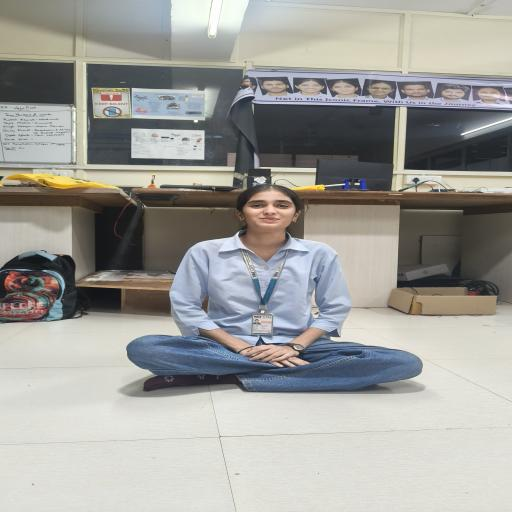survivor: (125, 184, 423, 394)
